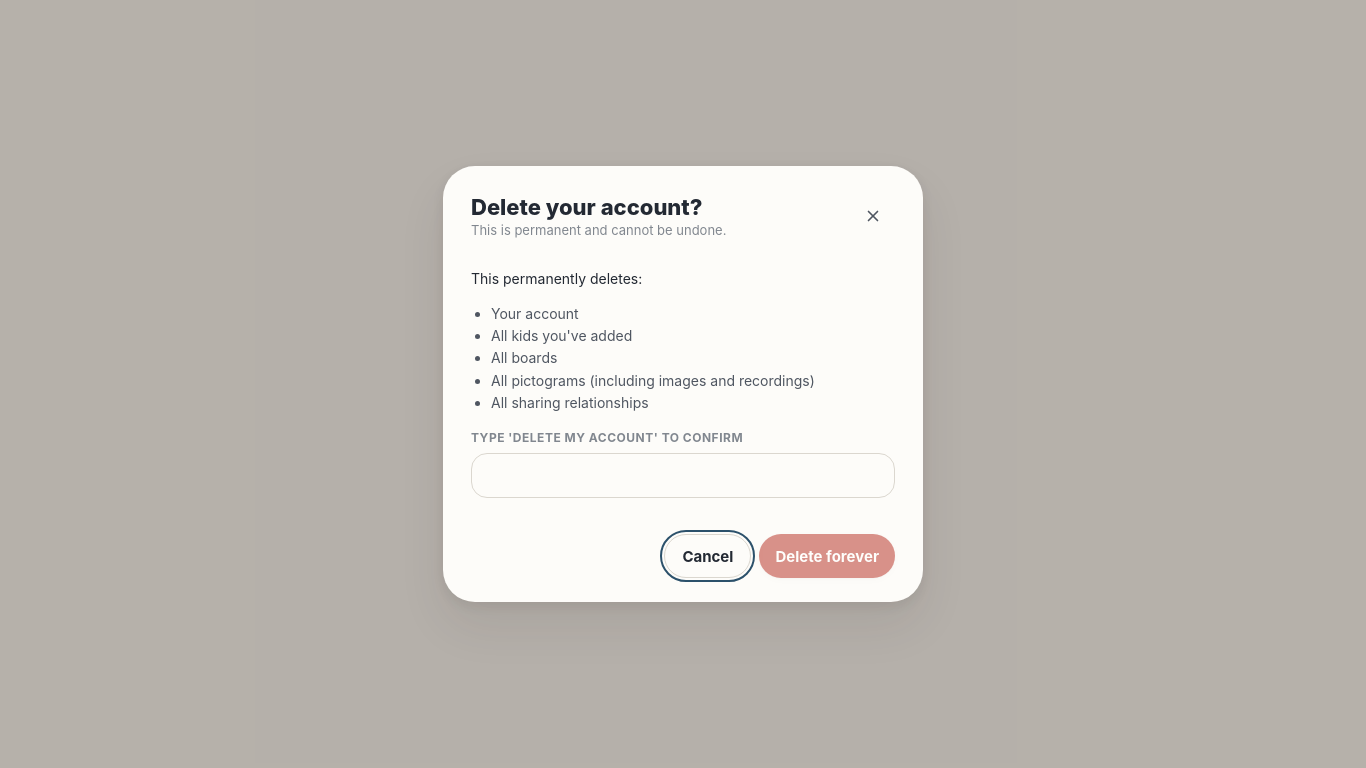
Test case: DeleteAccountDialog › typing "delete my account" enables the button
Type "delete my account" into the field labelled "Type 'delete my account' to confirm" at x=683, y=476, box left=471, top=454, right=895, bottom=498
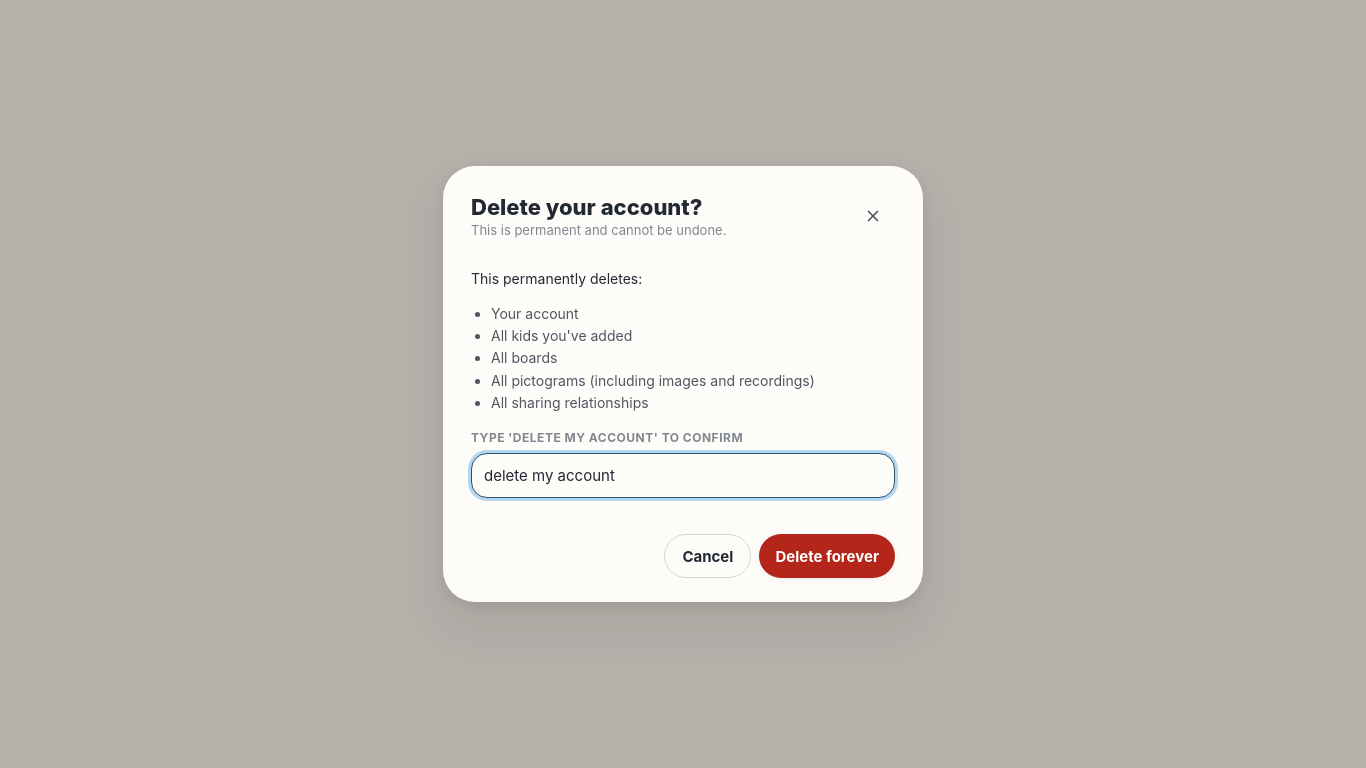
Expected: the button "Delete forever" is enabled, left=759, top=534, right=895, bottom=578
